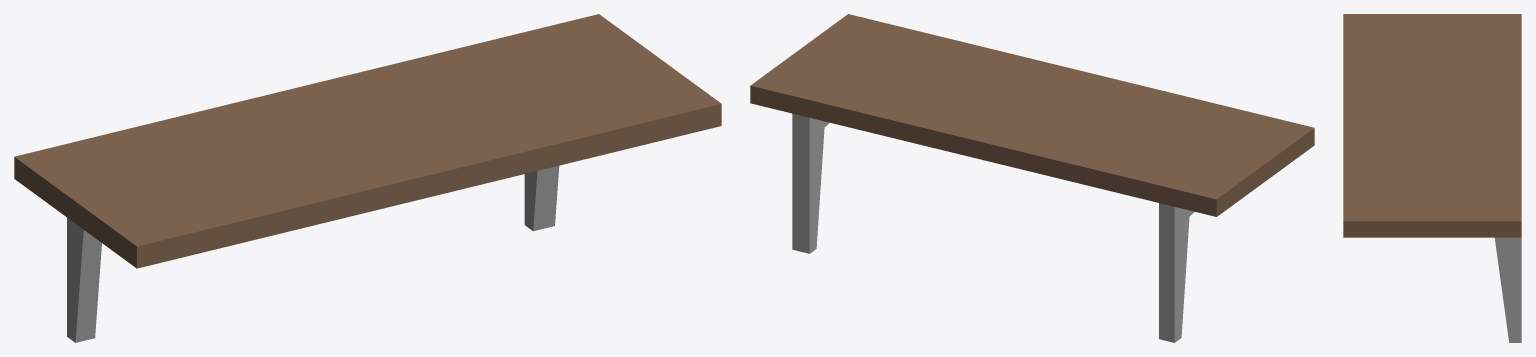
The model's file is WallRack.FBX.
The picture shows the model from 3 angles, left to right: view 1: azimuth 30°, elevation 25°; view 2: azimuth 150°, elevation 25°; view 3: azimuth 270°, elevation 25°; orthographic projection. The views are drawn at different scales.
Parts seen in each view (by area): view 1: WallRack; view 2: WallRack; view 3: WallRack.
Part boxes in pixels (bbox=[...]): WallRack: bbox=[14, 14, 721, 342]; WallRack: bbox=[750, 14, 1314, 342]; WallRack: bbox=[1343, 14, 1521, 342].
Size of the model in its own units: 112 by 35.15 by 40.56.
